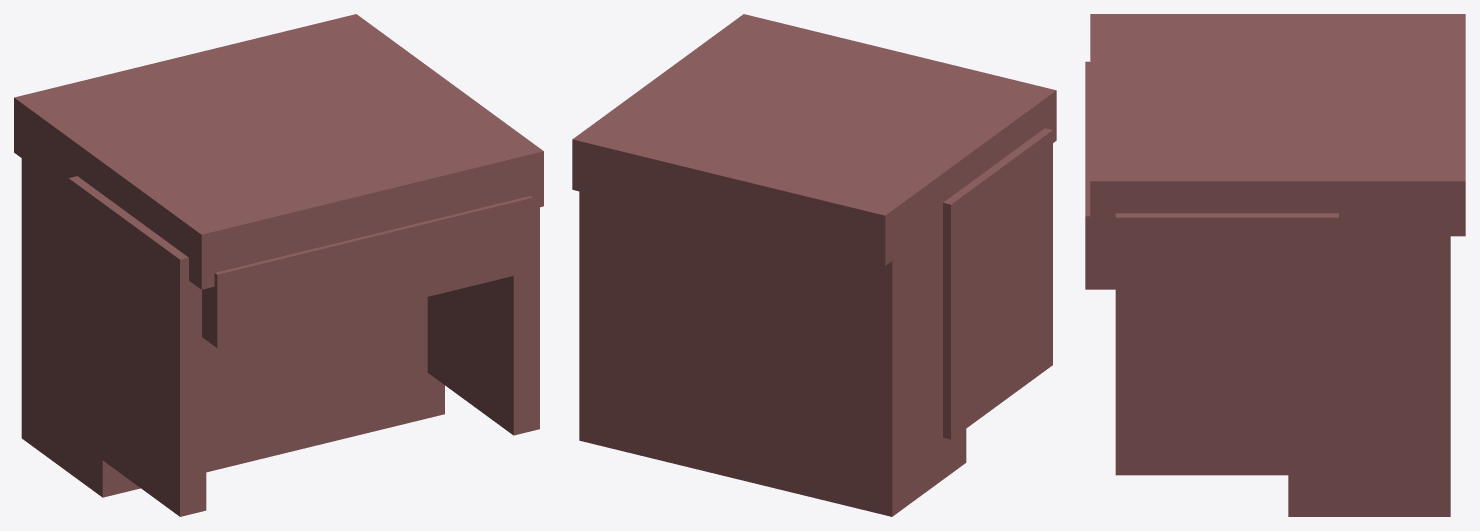
File: cabelo_bob.glb
3 views of the same model, side by side, from view 1: azimuth 30°, elevation 25°; view 2: azimuth 150°, elevation 25°; view 3: azimuth 270°, elevation 25° (orthographic). The views are drawn at different scales.
Parts seen in each view (by area): view 1: cabelo_bob; view 2: cabelo_bob; view 3: cabelo_bob.
Part boxes in pixels (x1,y1,x2,y2): cabelo_bob: [14, 14, 543, 516]; cabelo_bob: [572, 14, 1056, 516]; cabelo_bob: [1085, 14, 1465, 516].
Size of the model in its own units: 0.4032 by 0.3589 by 0.3688.
